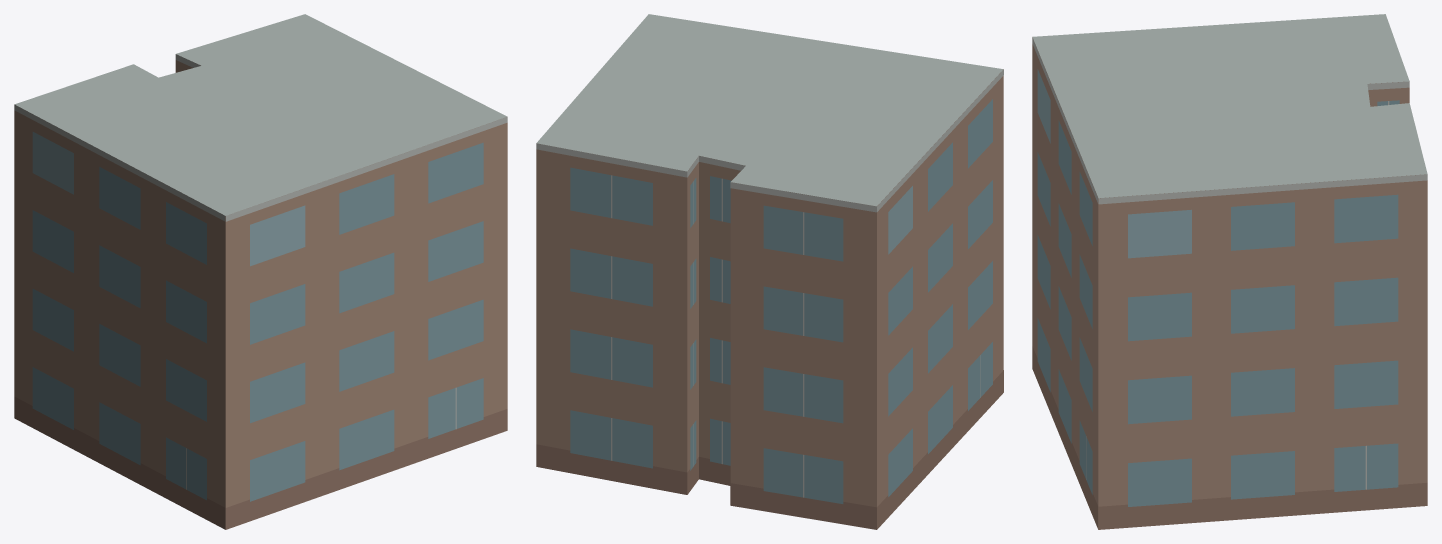
File: survey-upis-33017888.glb
3 renders of one model, left to right at view 1: azimuth 30°, elevation 25°; view 2: azimuth 150°, elevation 25°; view 3: azimuth 270°, elevation 25°, orthographic. The views are drawn at different scales.
Parts seen in each view (by area): view 1: survey-upis-33017888.tmp; view 2: survey-upis-33017888.tmp; view 3: survey-upis-33017888.tmp.
Part boxes in pixels (left/top/right/bottom): survey-upis-33017888.tmp: left=14, top=14, right=507, bottom=529; survey-upis-33017888.tmp: left=536, top=14, right=1003, bottom=529; survey-upis-33017888.tmp: left=1032, top=14, right=1427, bottom=529.
Size of the model in its own units: 15.5 by 13 by 14.05.
